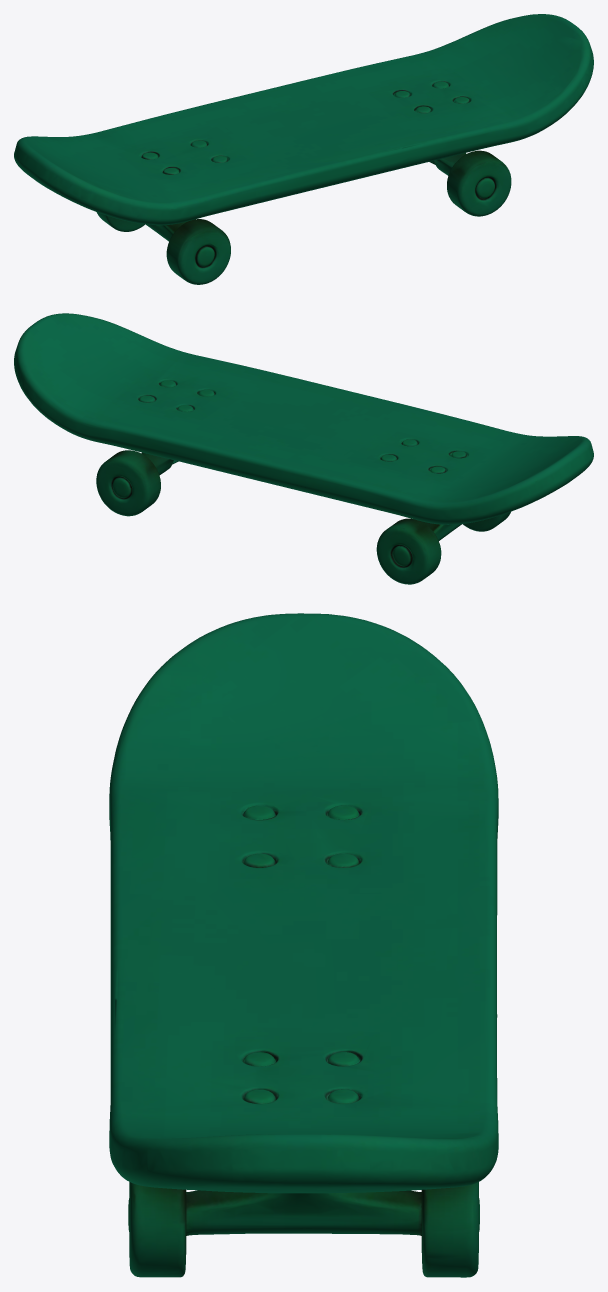
Rendered from skateboard.glb.
3 views of the same model, one above another, from view 1: azimuth 30°, elevation 25°; view 2: azimuth 150°, elevation 25°; view 3: azimuth 270°, elevation 25° (orthographic). The views are drawn at different scales.
Visible parts, largest first — view 1: node_0; view 2: node_0; view 3: node_0.
Boxes of the visible parts, box(x1,y1,x2,y2) form: node_0: box(14, 14, 593, 284); node_0: box(14, 313, 593, 584); node_0: box(109, 613, 498, 1277).
Size of the model in its own units: 1.18 by 0.2683 by 0.3627.
Materials: 1 (1 with a texture image).
